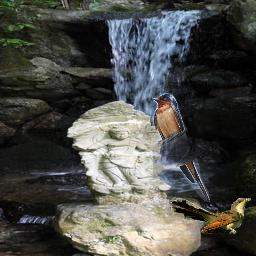Cuckoo: (170, 198, 251, 234)
Swallow: (153, 93, 210, 202)
